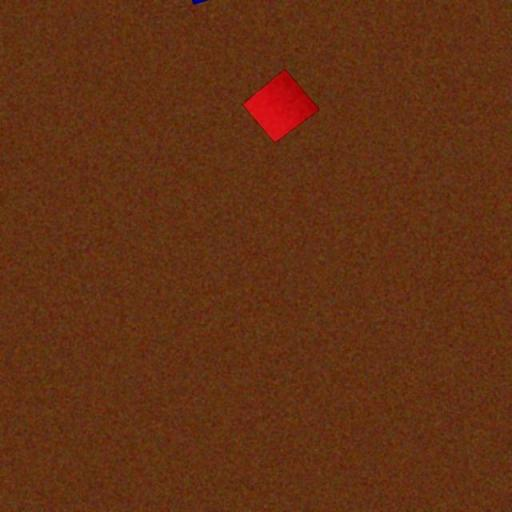RED_SQUARE: (242, 68, 320, 143)
